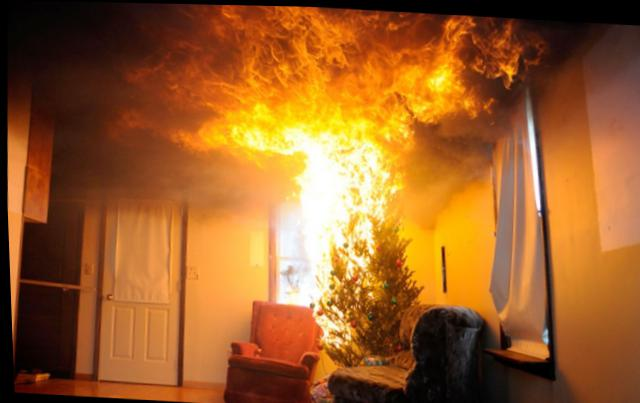fire: (177, 3, 540, 343)
